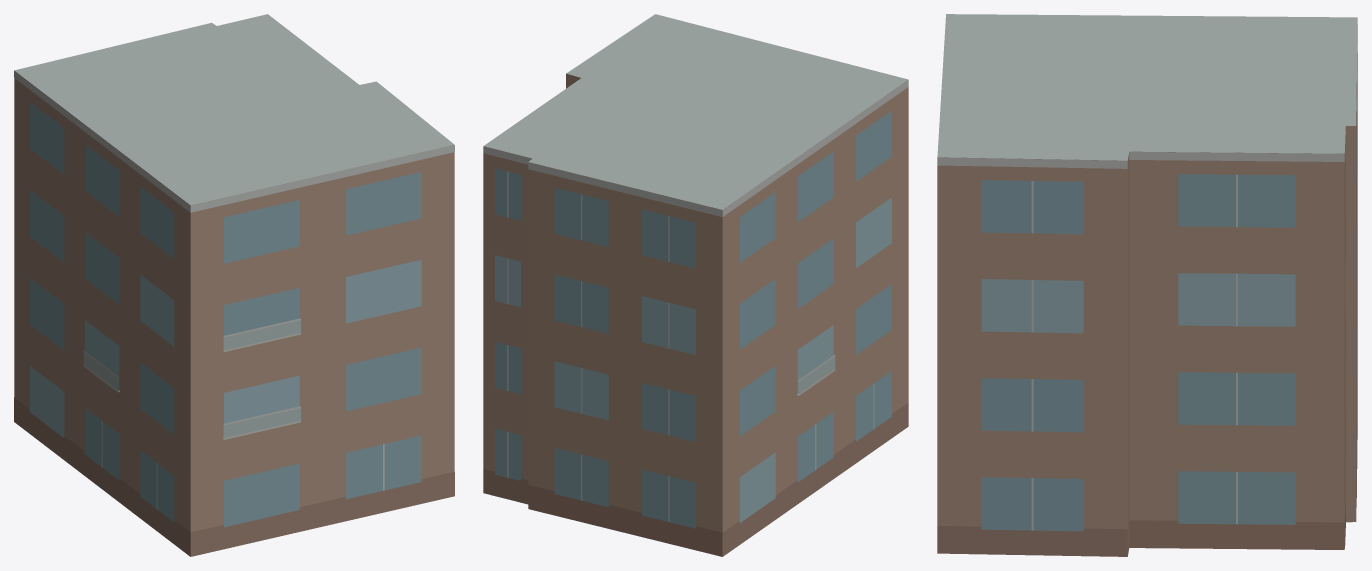
The model's file is survey-upis-32925178.glb.
3 views of the same model, side by side, from view 1: azimuth 30°, elevation 25°; view 2: azimuth 150°, elevation 25°; view 3: azimuth 270°, elevation 25° (orthographic). The views are drawn at different scales.
Visible parts, largest first — view 1: survey-upis-32925178.tmp; view 2: survey-upis-32925178.tmp; view 3: survey-upis-32925178.tmp.
Boxes of the visible parts, <box> form: survey-upis-32925178.tmp: <box>14,14,454,556</box>; survey-upis-32925178.tmp: <box>483,14,908,556</box>; survey-upis-32925178.tmp: <box>937,14,1357,556</box>.
Bounding box in the file's own units: 9.3 × 11.7 × 11.26.
